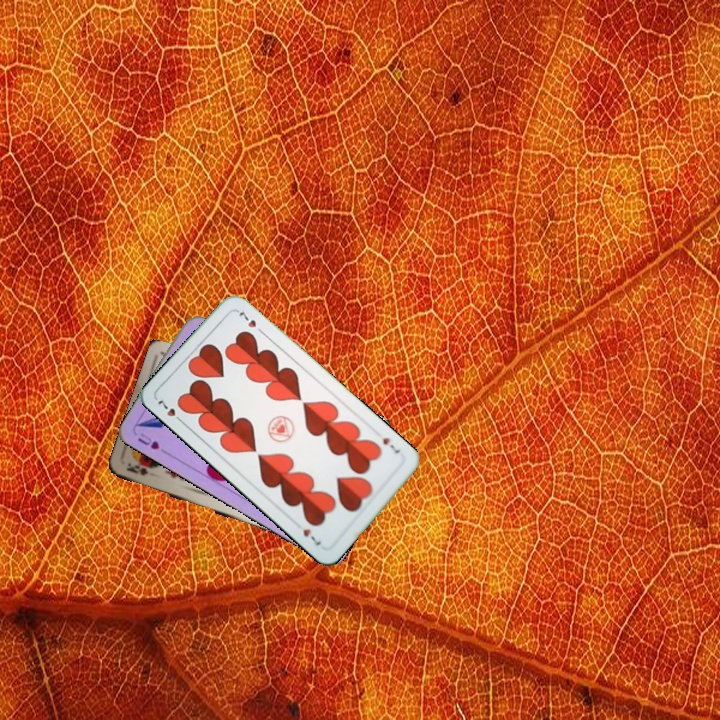H7: (153, 394, 186, 426), (378, 433, 403, 456)
HU: (133, 429, 162, 452)
SK: (122, 459, 151, 478)
